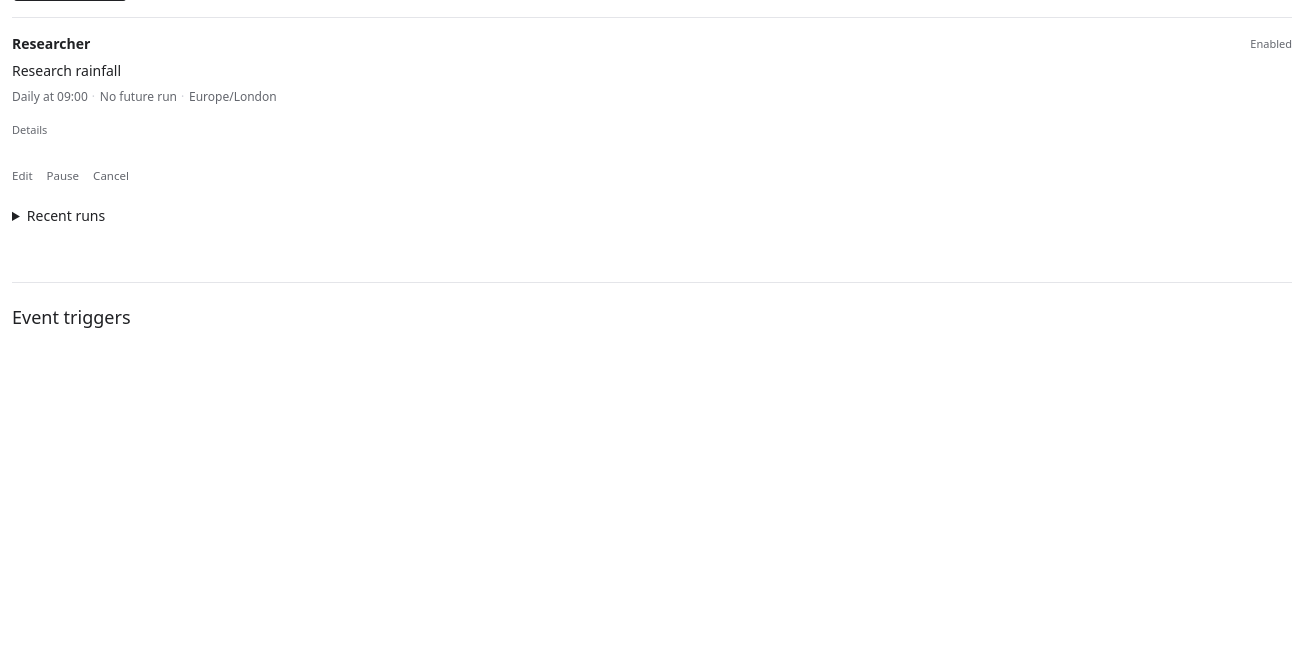
it: Local schedules › does not reroute an unavailable saved model
The width and height of the screenshot is (1304, 672).
Click the button "Edit" at (22, 176), box [12, 154, 33, 198]
(page scrolled)
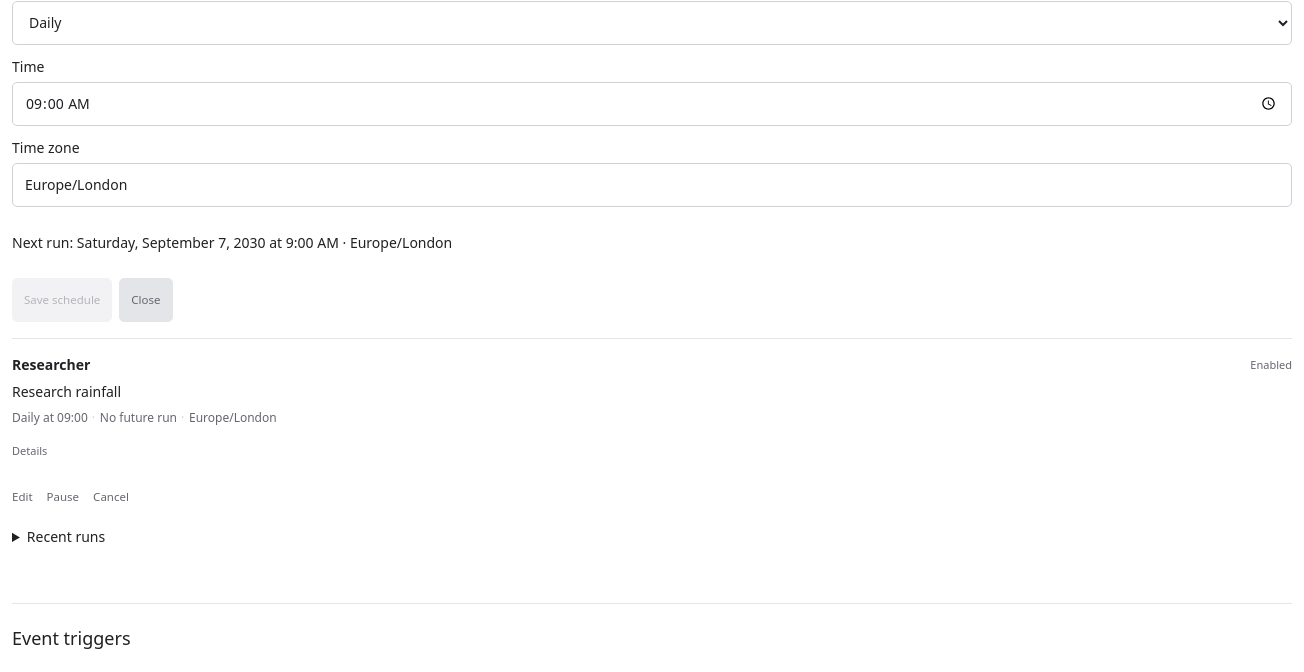
Expected: the button "Save schedule" is disabled, [12, 278, 112, 322]
